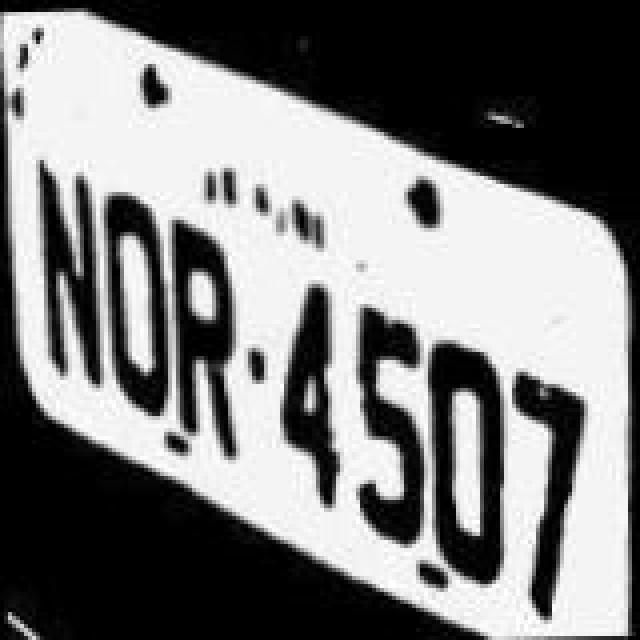4: (264, 262, 344, 510)
5: (346, 288, 434, 552)
7: (502, 326, 594, 626)
N: (32, 142, 104, 386)
O: (420, 290, 512, 582), (94, 158, 170, 422)
R: (162, 212, 250, 456)
